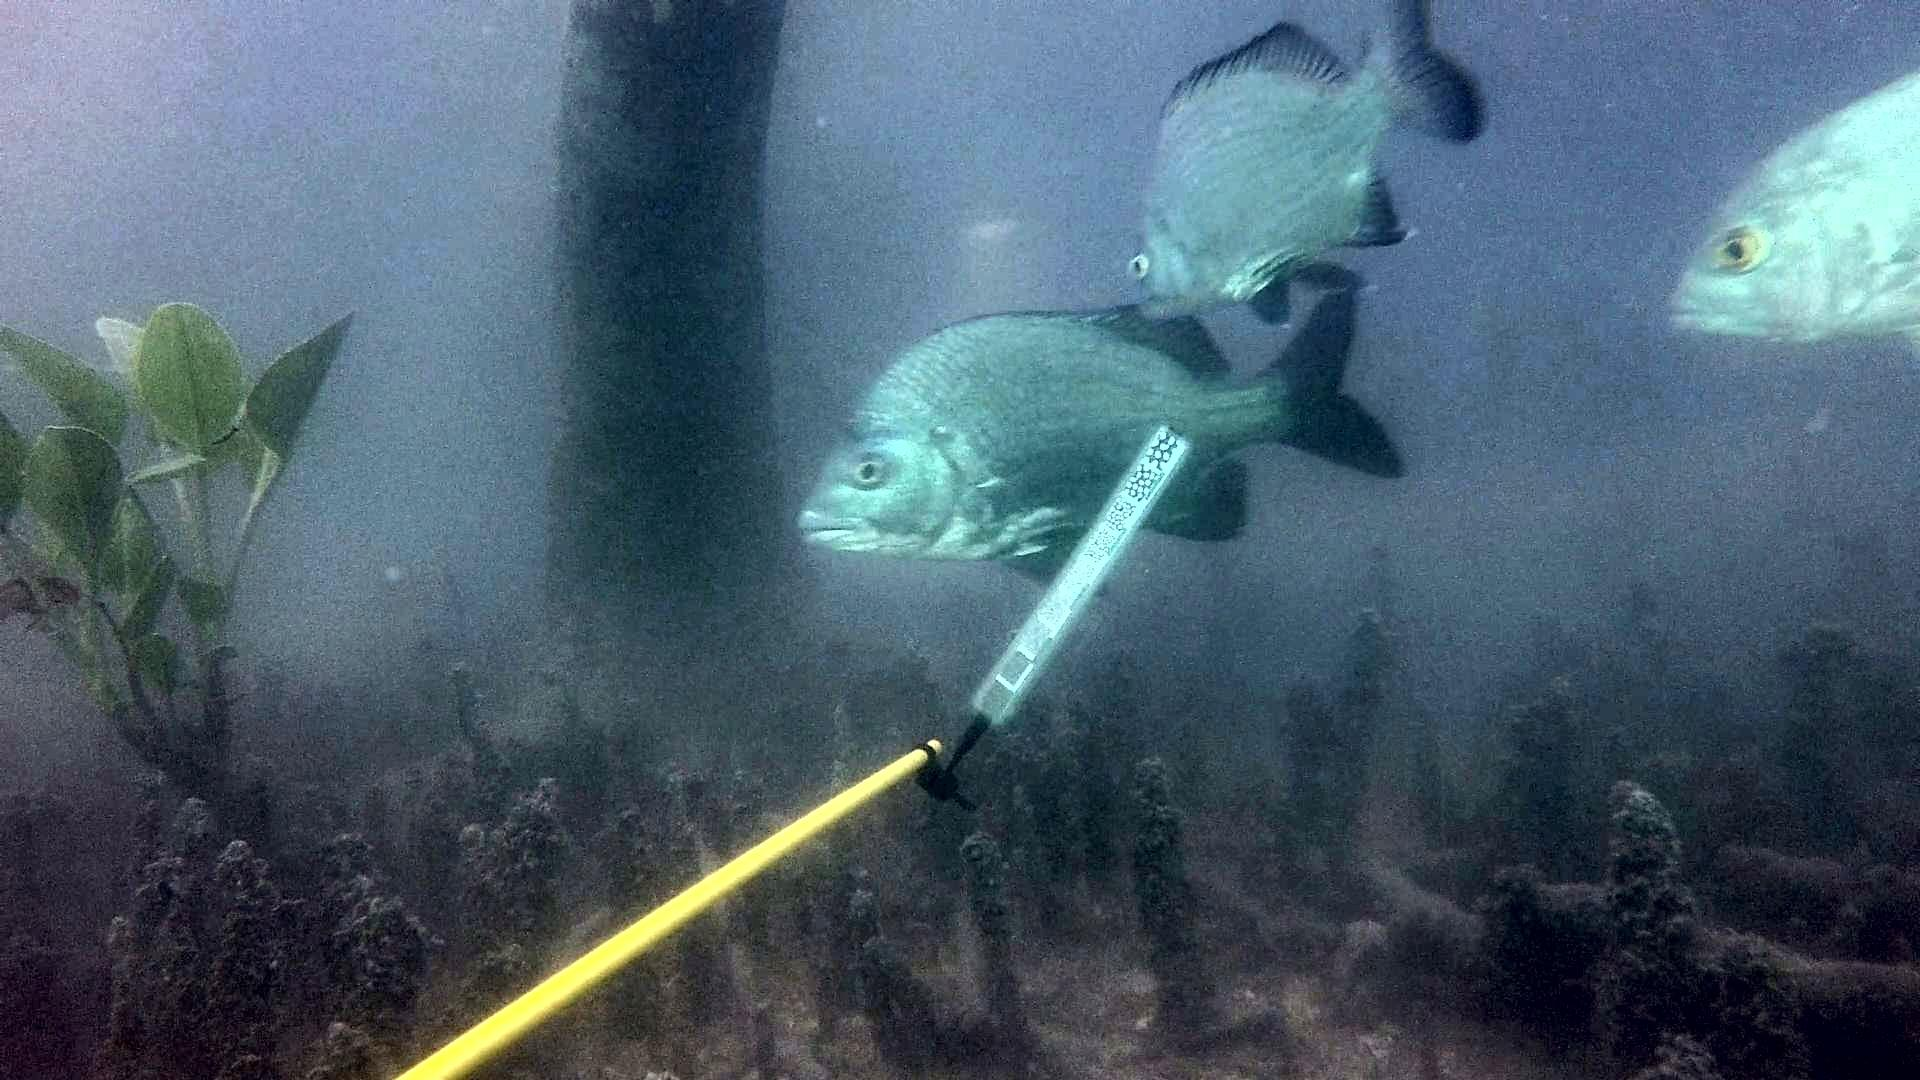acanthopagrus palmaris: (789, 275, 1416, 610), (1128, 0, 1498, 336)
caranx: (1655, 64, 1920, 366)
